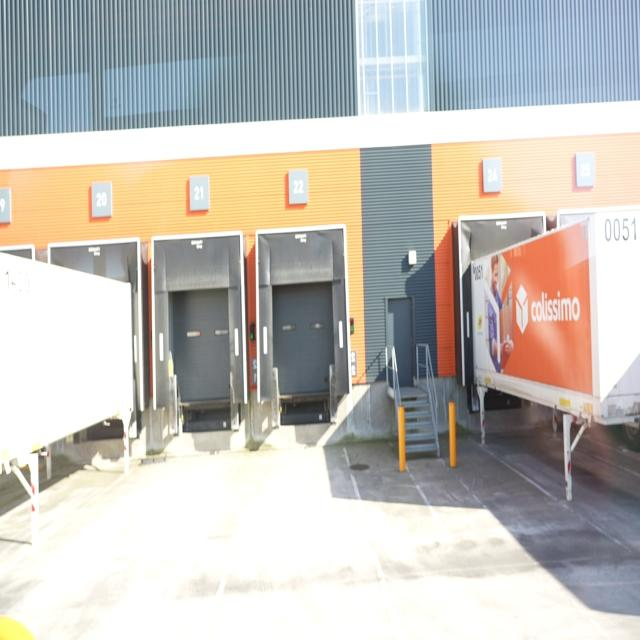Code: (602, 212, 639, 253)
